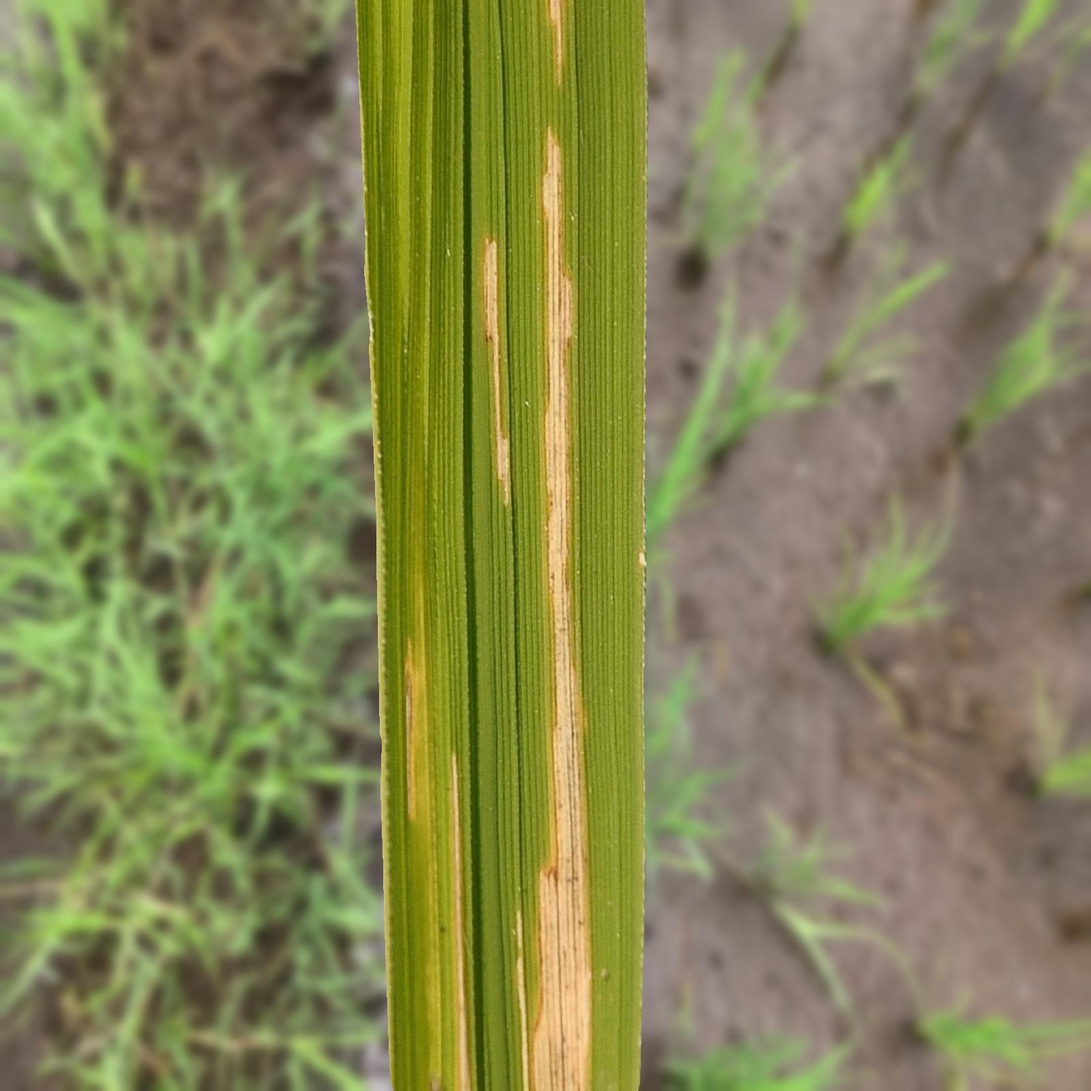BLS: (530, 129, 591, 1090), (483, 237, 510, 506), (449, 752, 470, 1090), (512, 910, 528, 1090), (404, 641, 419, 819), (547, 0, 563, 85)
LEAF: (355, 0, 648, 1090)
